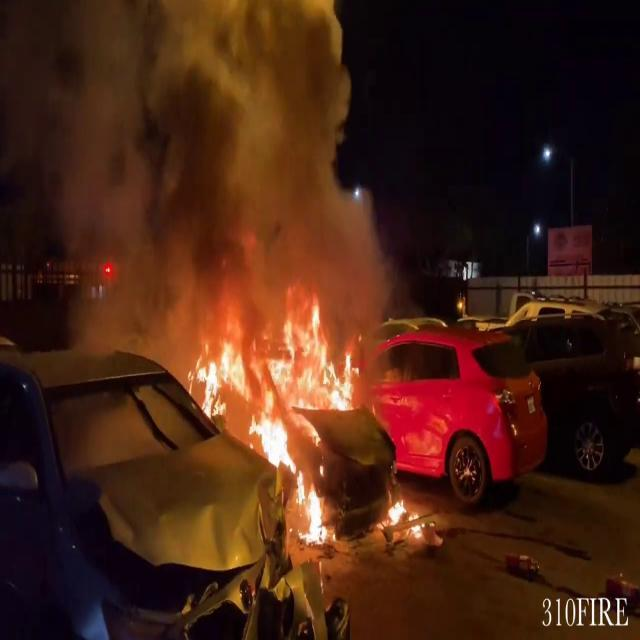Fire: (190, 294, 354, 546), (381, 491, 432, 544)
Smoke: (22, 0, 396, 349)
